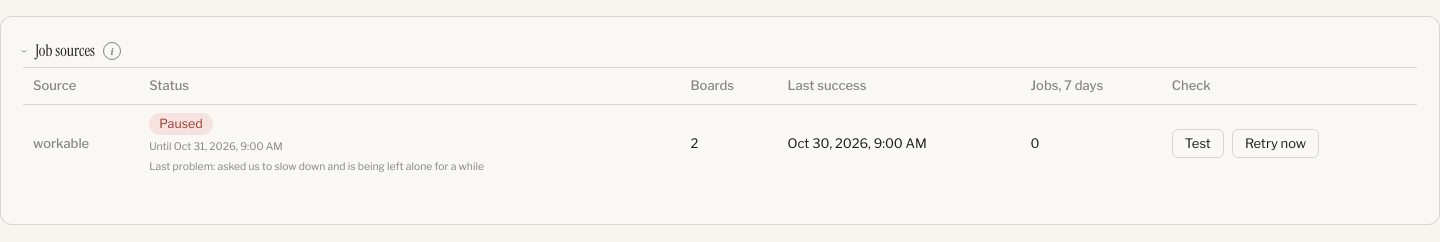
Test: SourceHealth › Retry now asks the server, then shows the source as no longer paused
Click the button with aria-label "Retry workable now" at (1275, 143), box [1232,129,1319,158]
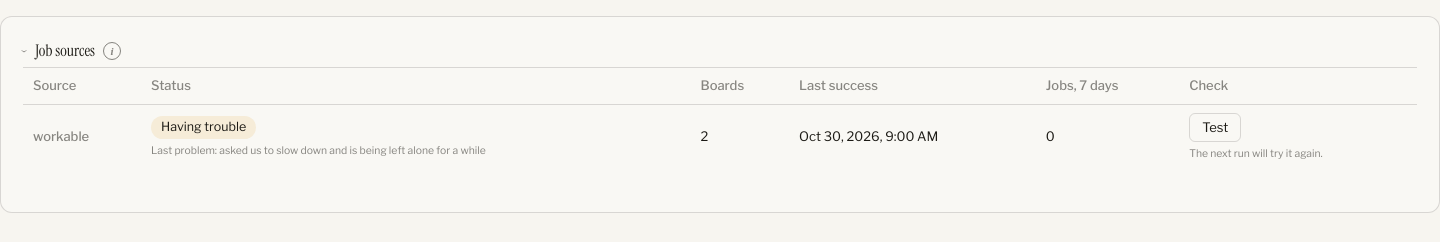
Expected: the text "The next run will try it again." is shown, [1189,147,1323,160]
Expected: the text "Having trouble" is shown, [151,116,256,139]
